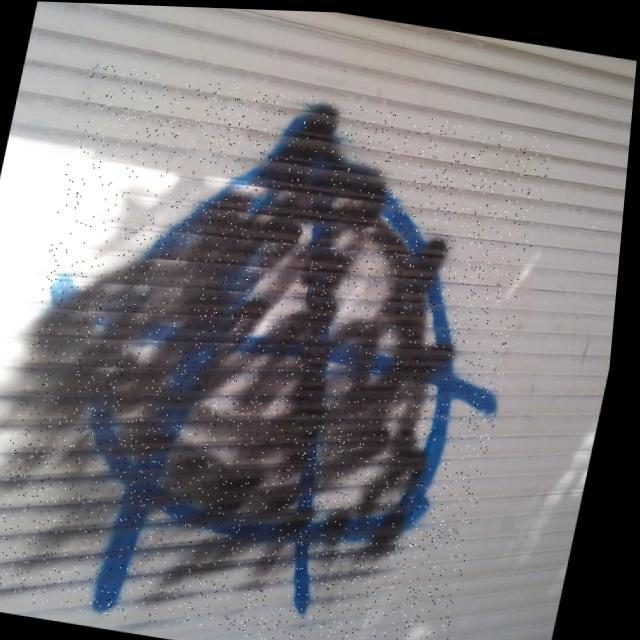-: (0, 59, 560, 640)
